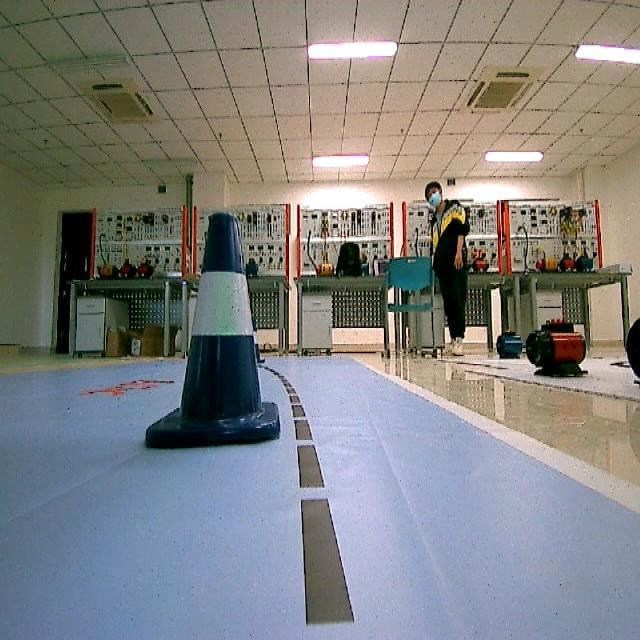obstacle: (143, 212, 282, 452)
